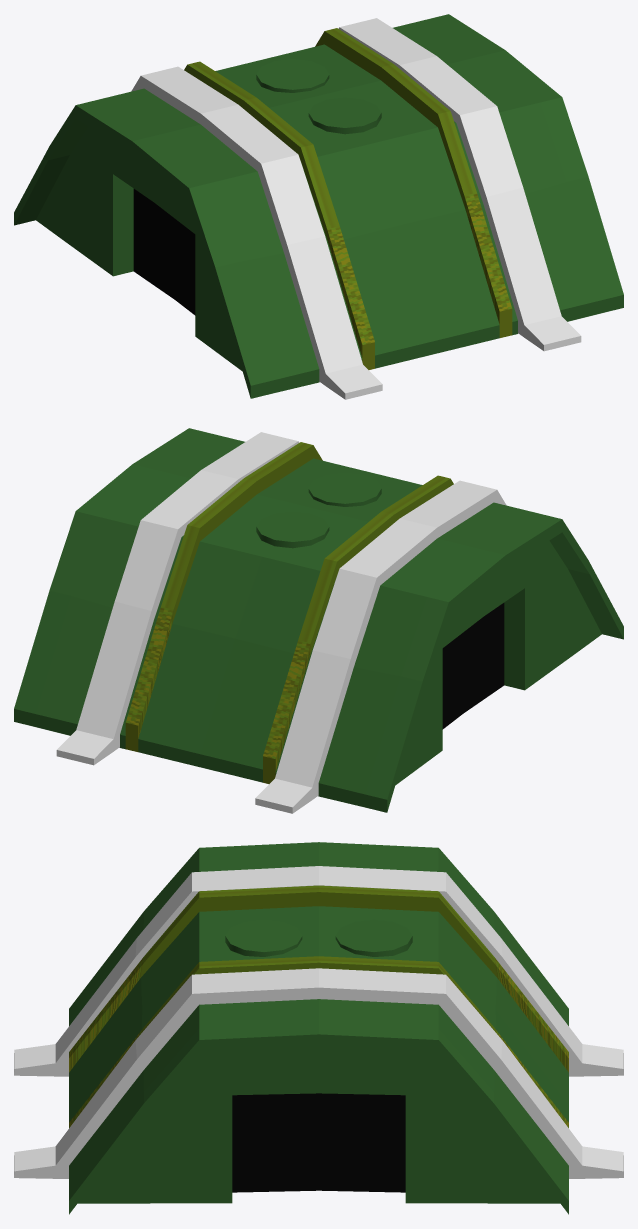
The model's file is bunker.fbx.
The picture shows the model from 3 angles, top to bottom: view 1: azimuth 30°, elevation 25°; view 2: azimuth 150°, elevation 25°; view 3: azimuth 270°, elevation 25°; orthographic projection. The views are drawn at different scales.
Visible parts, largest first — view 1: Circle.020; view 2: Circle.020; view 3: Circle.020.
Boxes of the visible parts, x1,y1,x2,y2 form: Circle.020: (14, 14, 623, 399); Circle.020: (14, 428, 623, 813); Circle.020: (14, 842, 623, 1214).
Bounding box in the file's own units: 344 × 163 × 462.
Materials: 4 (1 with a texture image).
